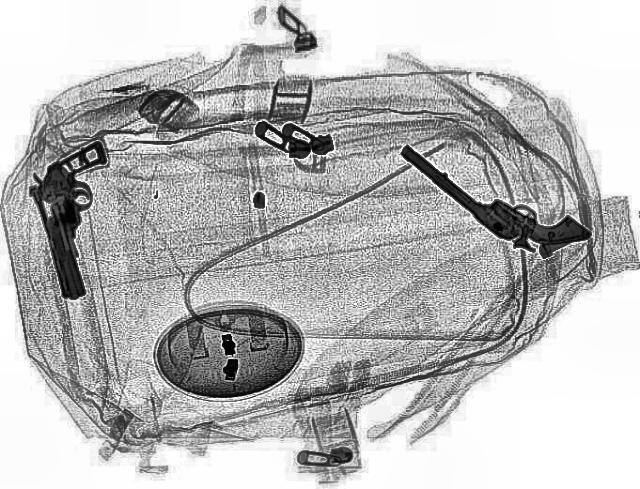Gun: (394, 116, 592, 270), (17, 140, 142, 300)
